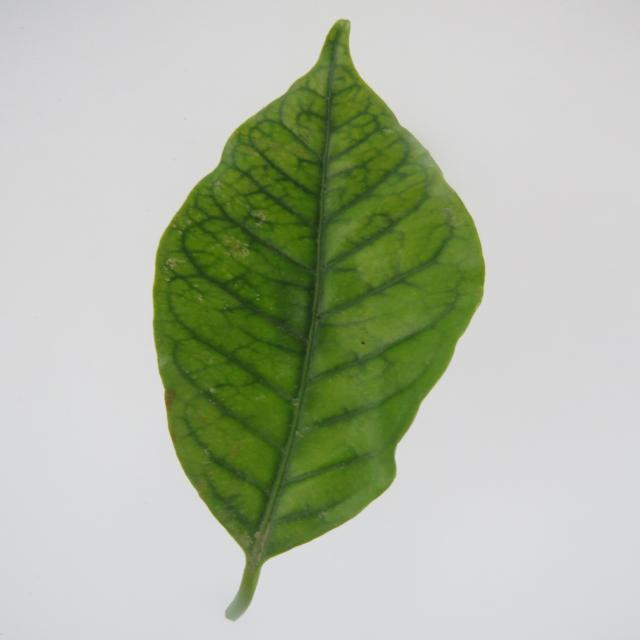DeficienciaNutricional-Magnesio: (165, 20, 483, 619)
